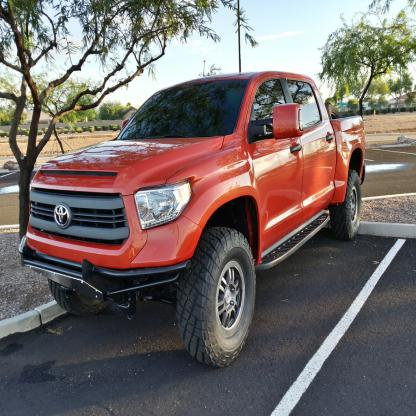Truck: (18, 70, 366, 366)
